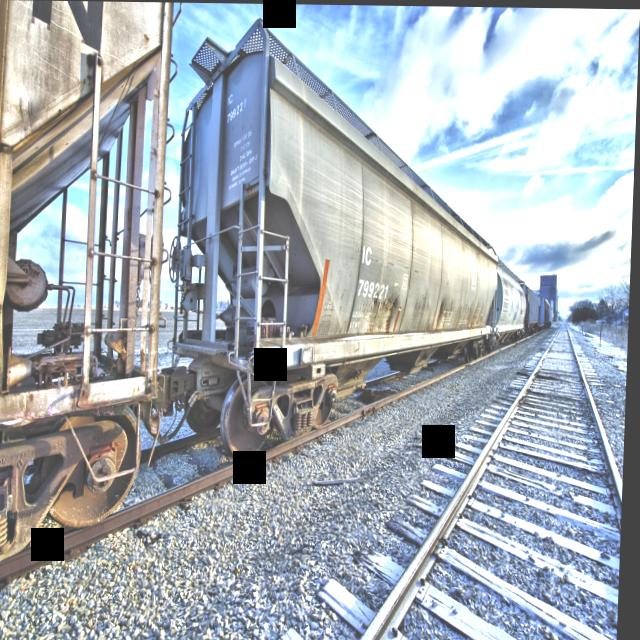hopper: (167, 14, 510, 481), (0, 0, 177, 592)
tank: (491, 256, 530, 348)
